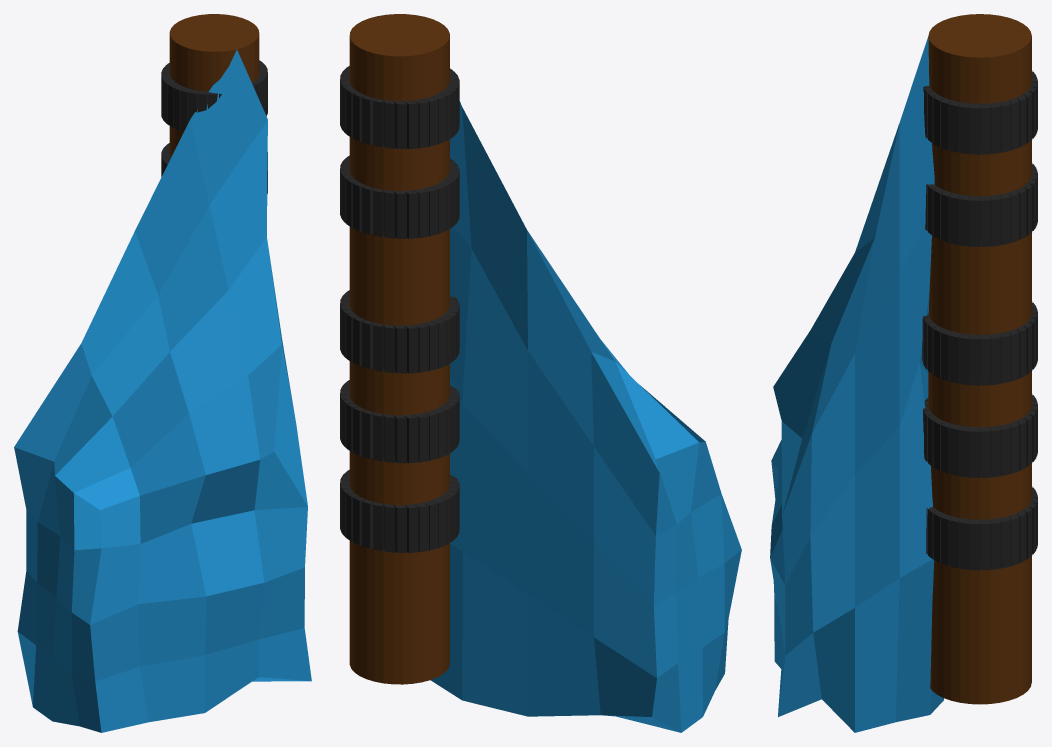
Rendered from GateHolder2.fbx.
3 views of the same model, side by side, from view 1: azimuth 30°, elevation 25°; view 2: azimuth 150°, elevation 25°; view 3: azimuth 270°, elevation 25° (orthographic). The views are drawn at different scales.
Visible parts, largest first — view 1: Cube; view 2: Cube; view 3: Cube.
Boxes of the visible parts, x1,y1,x2,y2 form: Cube: (14,14,311,732); Cube: (340,14,741,732); Cube: (770,14,1037,732).
Size of the model in its own units: 224 by 484 by 171.
